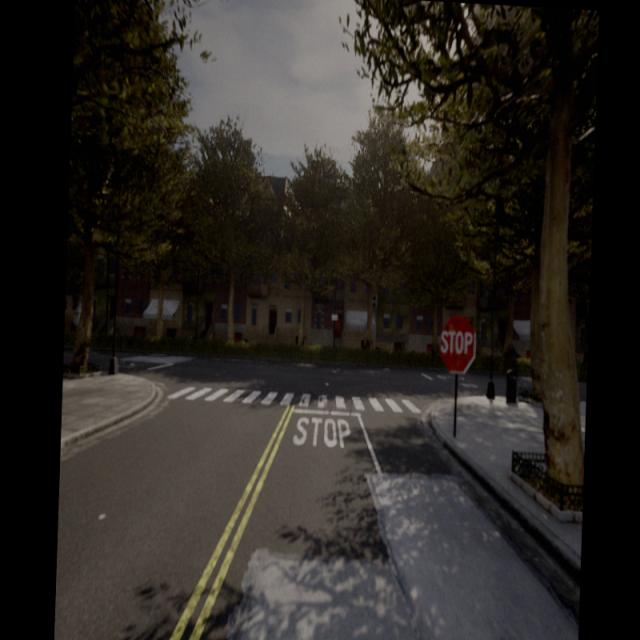stop sign: (437, 312, 478, 376), (439, 328, 474, 357)
